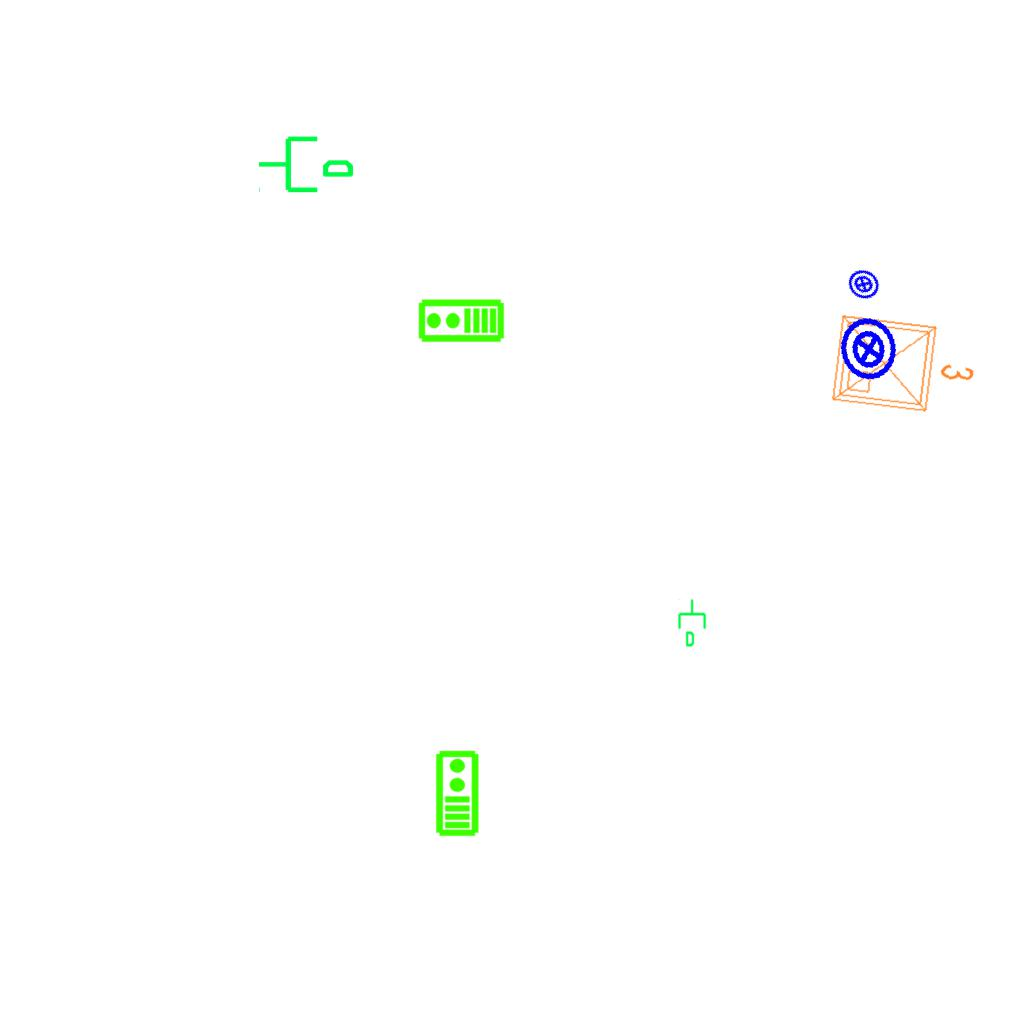Datenanschluss_einfach: (256, 128, 356, 197), (676, 598, 710, 648)
Einbaudownlights_LED_Konferenzraeume: (824, 303, 986, 425)
Gegensprechanlage_mit_Video: (417, 298, 505, 345), (433, 749, 480, 837)
Taster_beleuchtet: (830, 310, 908, 388), (841, 262, 886, 307)
